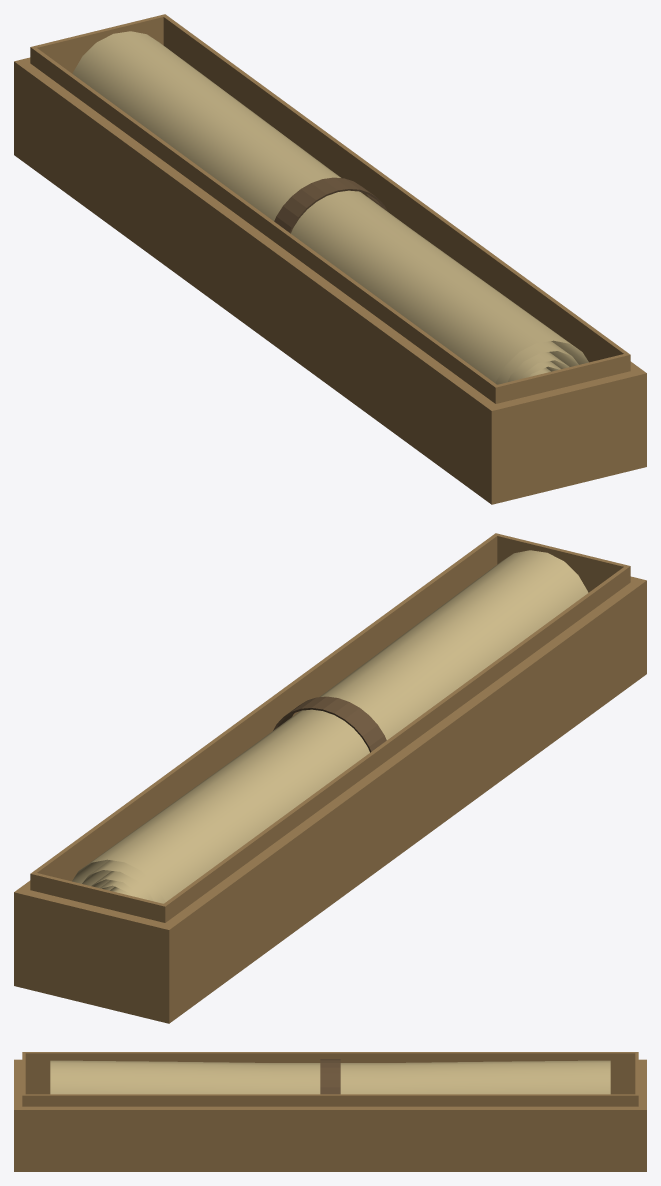
The model's file is BoxOpenFull.fbx.
3 views of the same model, one above another, from view 1: azimuth 30°, elevation 25°; view 2: azimuth 150°, elevation 25°; view 3: azimuth 270°, elevation 25° (orthographic). The views are drawn at different scales.
Parts seen in each view (by area): view 1: Cube.010; view 2: Cube.010; view 3: Cube.010.
Boxes of the visible parts, x1,y1,x2,y2 form: Cube.010: [14, 14, 646, 504]; Cube.010: [14, 533, 646, 1023]; Cube.010: [14, 1052, 646, 1171].
Size of the model in its own units: 6 by 4.67 by 32.
